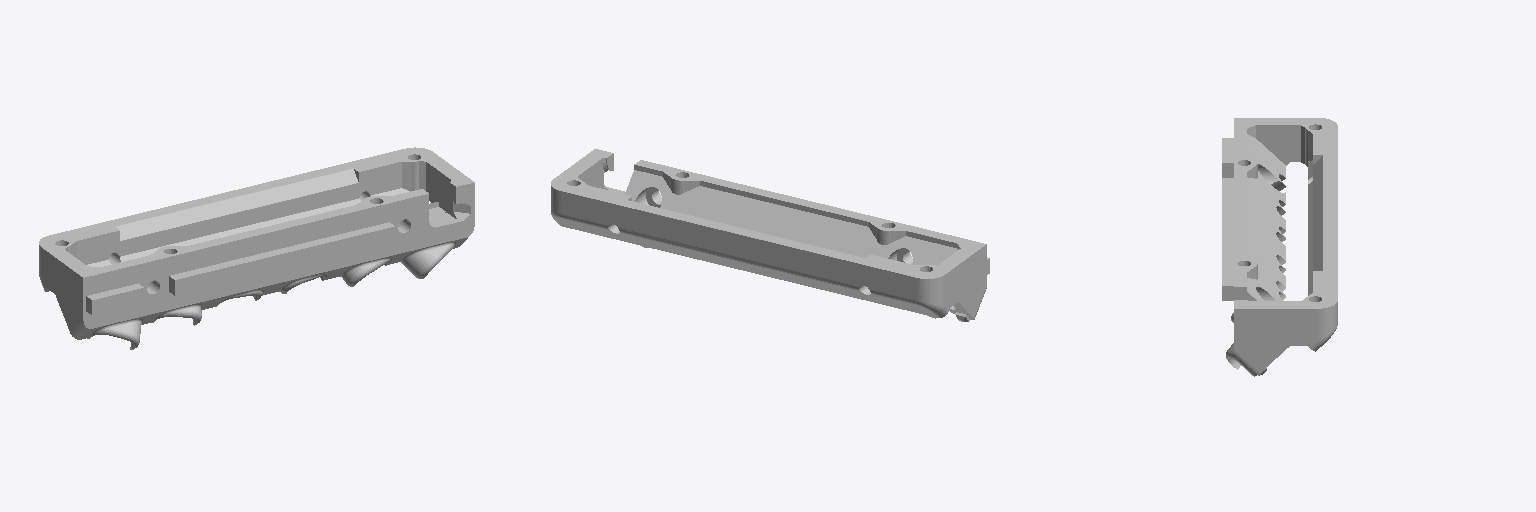
File: Hub.obj
3 renders of one model, left to right at view 1: azimuth 30°, elevation 25°; view 2: azimuth 150°, elevation 25°; view 3: azimuth 270°, elevation 25°, orthographic.
Visible parts, largest first — view 1: Hub; view 2: Hub; view 3: Hub.
Boxes of the visible parts, <box> form: Hub: <box>39,147,474,349</box>; Hub: <box>551,149,989,321</box>; Hub: <box>1222,118,1337,376</box>.
Bounding box in the file's own units: 154 × 32.19 × 39.6.